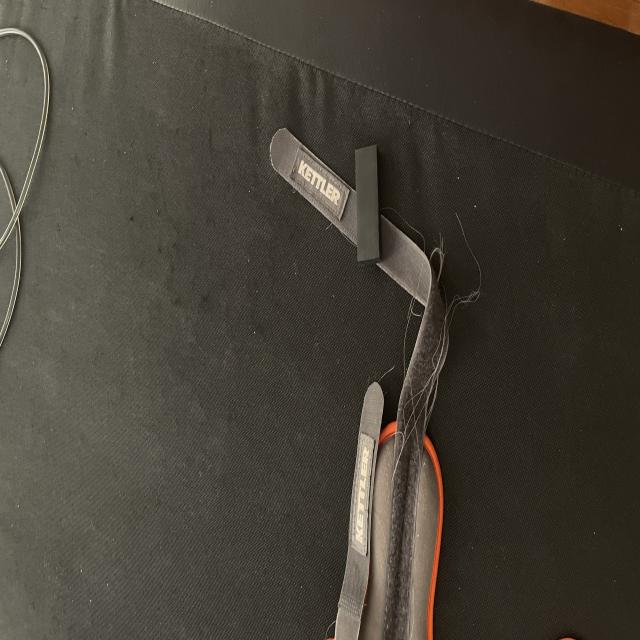eraser: (355, 145, 381, 264)
